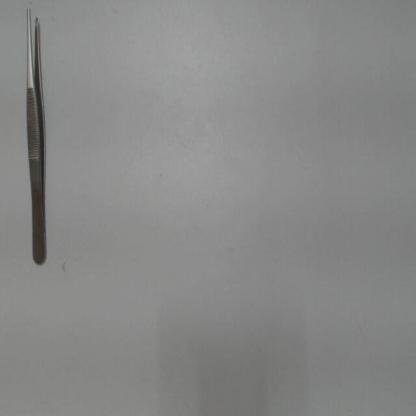Gillies Toothed Dissector: (19, 3, 52, 272)
